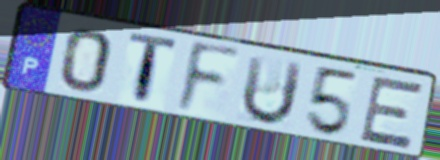0: (56, 27, 116, 96)
5: (302, 65, 363, 138)
E: (356, 74, 428, 152)
F: (172, 39, 243, 117)
T: (126, 30, 180, 111)
U: (238, 53, 306, 128)
